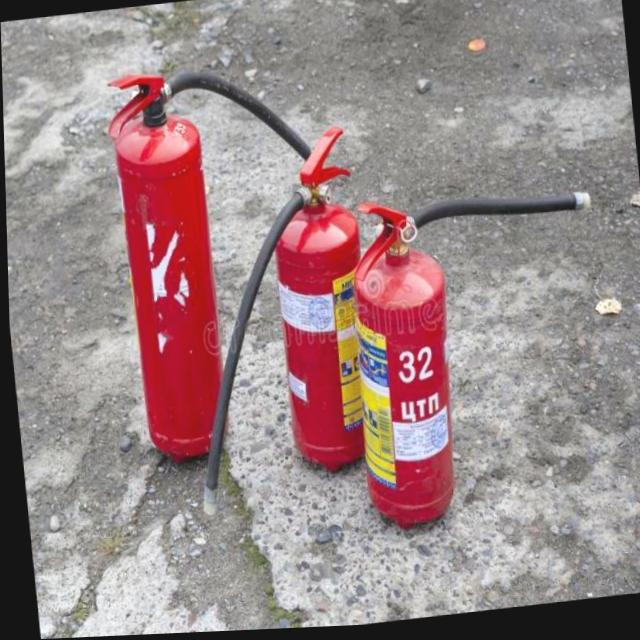FireExtinguisher: (100, 43, 350, 474), (331, 175, 620, 538), (161, 122, 383, 526)
